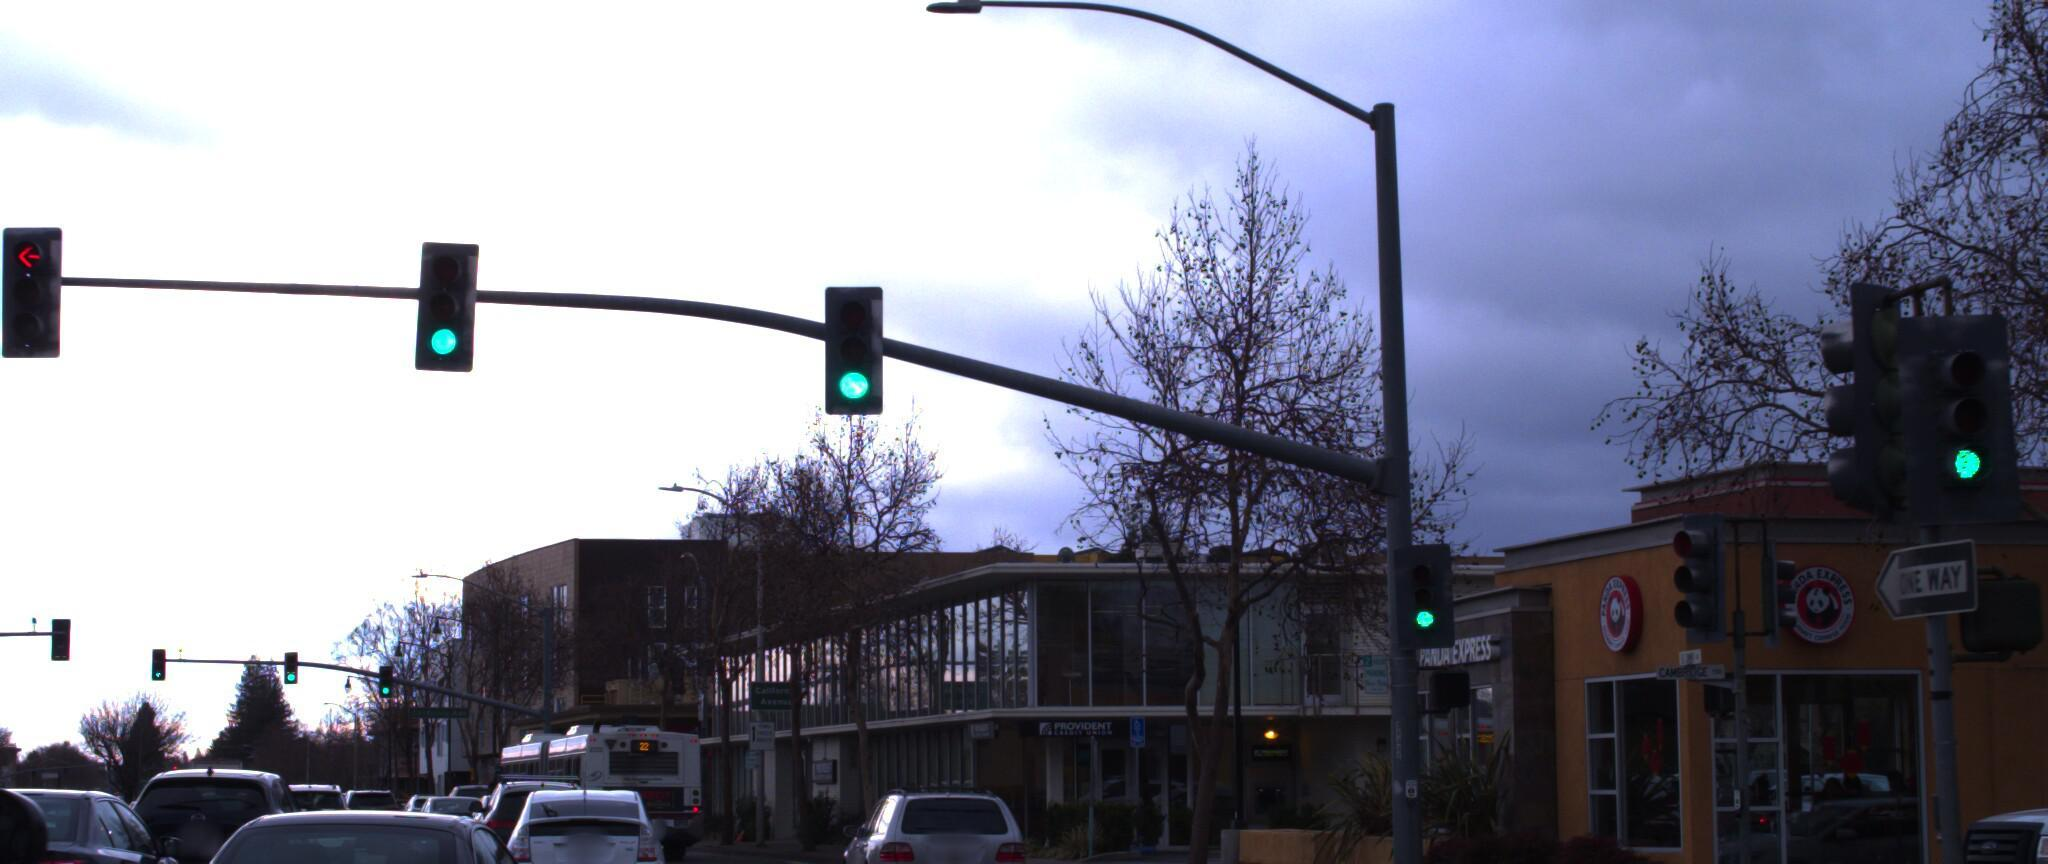bus: (550, 692, 728, 861)
car: (0, 194, 123, 864), (84, 777, 590, 864), (1881, 687, 2048, 864), (101, 743, 319, 864), (827, 754, 1037, 864), (0, 753, 195, 864), (473, 748, 639, 864), (486, 761, 667, 864), (259, 756, 374, 839), (1977, 780, 2048, 864)
